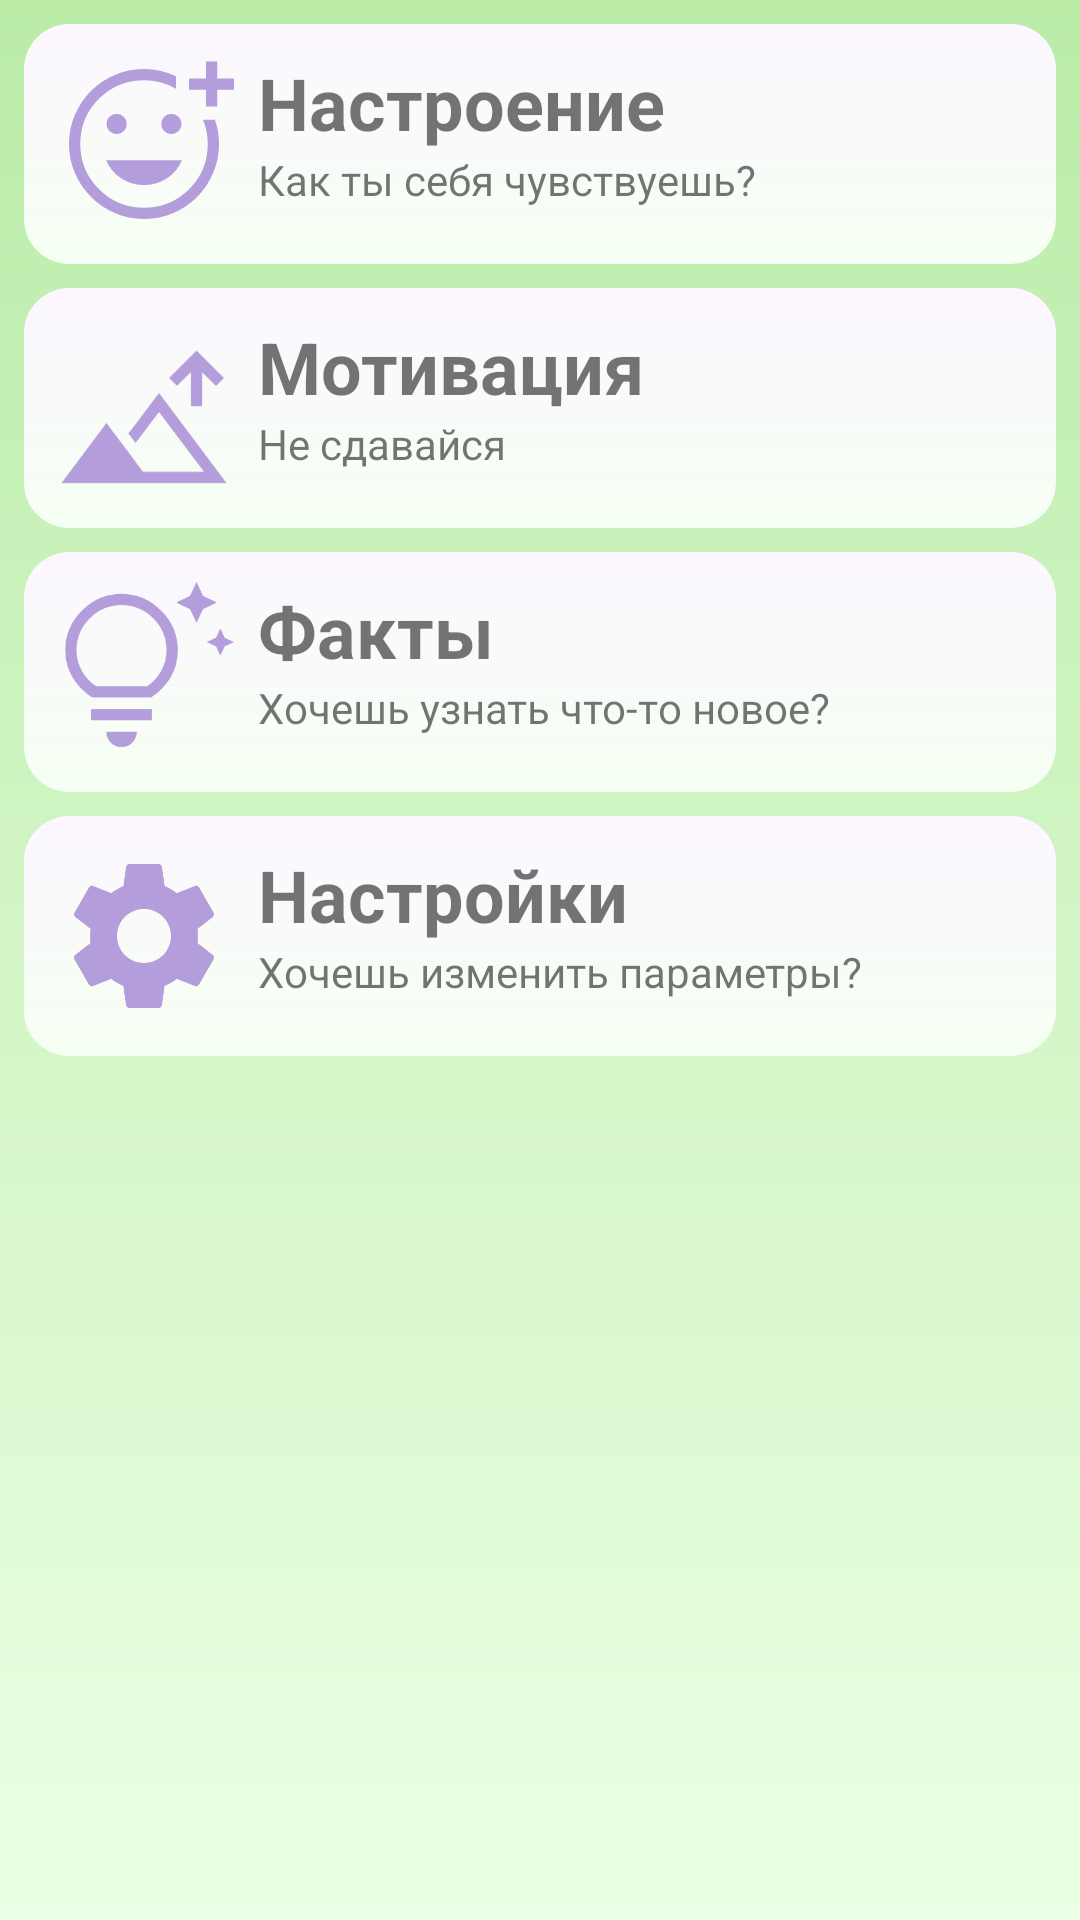

Screen size 1080px x 1920px. Icon name, then its box in pixels as bbox(x1, y1, x2, y2):
add reaction: bbox(69, 61, 234, 219)
altitude: bbox(62, 351, 226, 483)
settings: bbox(74, 864, 214, 1008)
tips and updates: bbox(65, 582, 233, 747)
